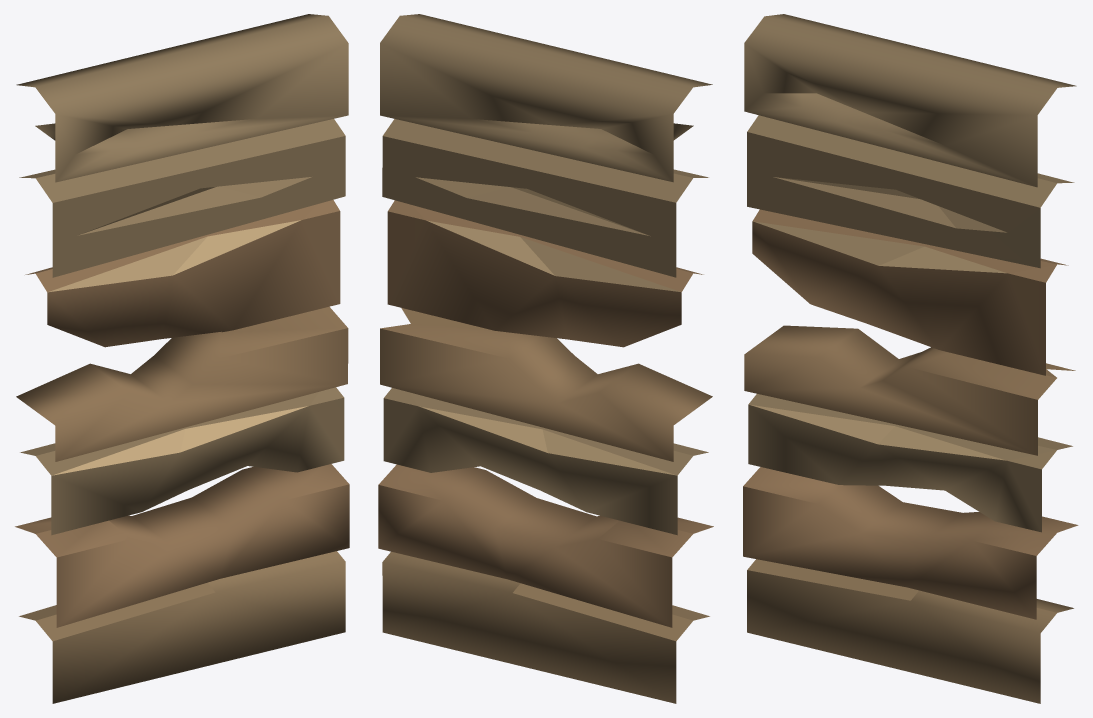
The model's file is rpgpp_av_wall_01_1.5x3_a.gltf.
The picture shows the model from 3 angles, left to right: view 1: azimuth 30°, elevation 25°; view 2: azimuth 150°, elevation 25°; view 3: azimuth 330°, elevation 25°; orthographic projection.
Parts seen in each view (by area): view 1: rpgpp_av_wall_01_1.5x3_a; view 2: rpgpp_av_wall_01_1.5x3_a; view 3: rpgpp_av_wall_01_1.5x3_a.
Part boxes in pixels (left/top/right/bottom): rpgpp_av_wall_01_1.5x3_a: left=15, top=14, right=349, bottom=703; rpgpp_av_wall_01_1.5x3_a: left=378, top=14, right=713, bottom=703; rpgpp_av_wall_01_1.5x3_a: left=743, top=14, right=1078, bottom=703.
Size of the model in its own units: 0.015 by 0.03 by 0.00378.
1 material, 1 textured.
